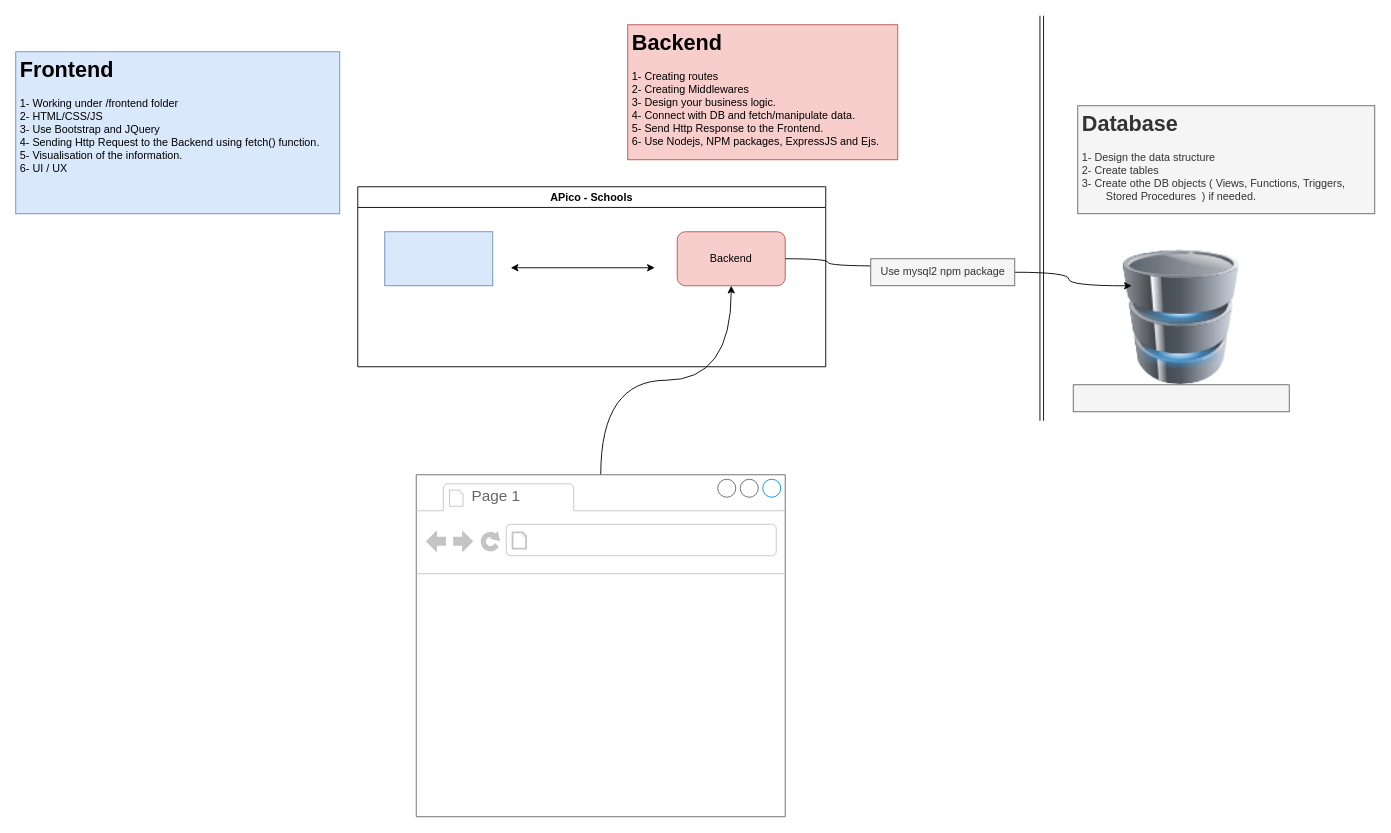
Image size: 1391x833. Some labels were removed from this diagram. Here are the shapes that lost their labels. From the top down, the centre of each, then its label:
At (438,258): "Frontend".
At (1180,398): "Database : SQL Server, MySql, Sqlite ....".
At (645,540): "https://www.draw.io".
